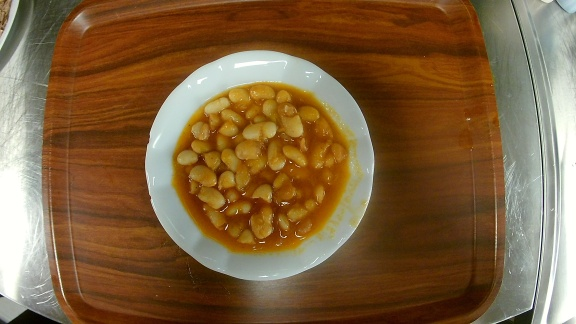kurufasulye: (145, 48, 374, 282)
